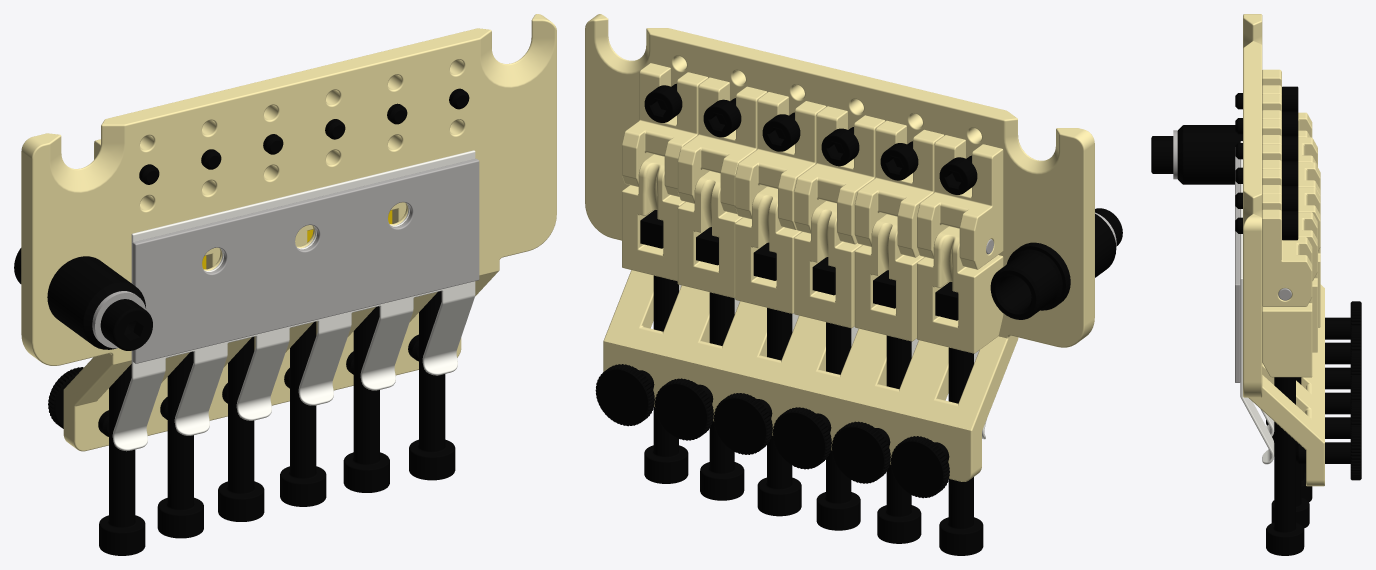
The model's file is FloydRose.glb.
The picture shows the model from 3 angles, left to right: view 1: azimuth 30°, elevation 25°; view 2: azimuth 150°, elevation 25°; view 3: azimuth 270°, elevation 25°; orthographic projection. The views are drawn at different scales.
Visible parts, largest first — view 1: plaat:1, plaatje 1mm:1, intonatieschroef:1 (×6), bladveer:1, Bus2 hendel:1, DIN EN ISO 4762 M4 x 12:1, randelschroef:6, DIN 125-1 A A 4,3:1; view 2: plaat:1, zadel_e:1 (×2), zadel_G:1 (×2), intonatieschroef:1 (×6), zadel_B:1, zadel_A:1, SCREW M3:1 (×6), Bus1 hendel:1, zwartblokje:1 (×6), randelschroef:5, randelschroef:4, randelschroef:2 (+4 smaller); view 3: plaat:1, zadel_e:1 (×2), intonatieschroef:1 (×2), Bus2 hendel:1, SCREW M3:1 (×6), zadel_G:1 (×2), zadel_A:1, bladveer:1, randelschroef:1, plaatje 1mm:1, zadel_B:1, randelschroef:5 (+5 smaller).
Part boxes in pixels (left/top/right/bottom): plaat:1: left=21, top=14, right=556, bottom=451; plaatje 1mm:1: left=132, top=158, right=479, bottom=363; intonatieschroef:1 (×6): left=99, top=291, right=455, bottom=555; bladveer:1: left=112, top=150, right=475, bottom=451; Bus2 hendel:1: left=47, top=256, right=145, bottom=349; DIN EN ISO 4762 M4 x 12:1: left=100, top=299, right=152, bottom=350; randelschroef:6: left=48, top=367, right=108, bottom=436; DIN 125-1 A A 4,3:1: left=92, top=291, right=145, bottom=348; plaat:1: left=585, top=14, right=1094, bottom=481; zadel_e:1 (×2): left=622, top=63, right=1003, bottom=353; zadel_G:1 (×2): left=735, top=92, right=885, bottom=328; intonatieschroef:1 (×6): left=644, top=275, right=983, bottom=555; zadel_B:1: left=854, top=120, right=944, bottom=341; zadel_A:1: left=677, top=77, right=767, bottom=298; SCREW M3:1 (×6): left=644, top=83, right=977, bottom=194; Bus1 hendel:1: left=990, top=242, right=1070, bottom=319; zwartblokje:1 (×6): left=640, top=210, right=958, bottom=320; randelschroef:5: left=831, top=421, right=890, bottom=483; randelschroef:4: left=772, top=407, right=831, bottom=469; randelschroef:2: left=654, top=378, right=713, bottom=440; plaat:1: left=1243, top=14, right=1324, bottom=486; zadel_e:1 (×2): left=1262, top=69, right=1312, bottom=377; intonatieschroef:1 (×2): left=1266, top=377, right=1309, bottom=555; Bus2 hendel:1: left=1177, top=125, right=1242, bottom=184; SCREW M3:1 (×6): left=1235, top=86, right=1298, bottom=240; zadel_G:1 (×2): left=1262, top=119, right=1320, bottom=327; zadel_A:1: left=1262, top=169, right=1317, bottom=352; bladveer:1: left=1240, top=141, right=1274, bottom=464; randelschroef:1: left=1296, top=426, right=1361, bottom=480; plaatje 1mm:1: left=1235, top=147, right=1240, bottom=382; zadel_B:1: left=1262, top=94, right=1317, bottom=166; randelschroef:5: left=1325, top=326, right=1361, bottom=364.
Size of the model in its own units: 0.0915 by 0.0743 by 0.0385.
